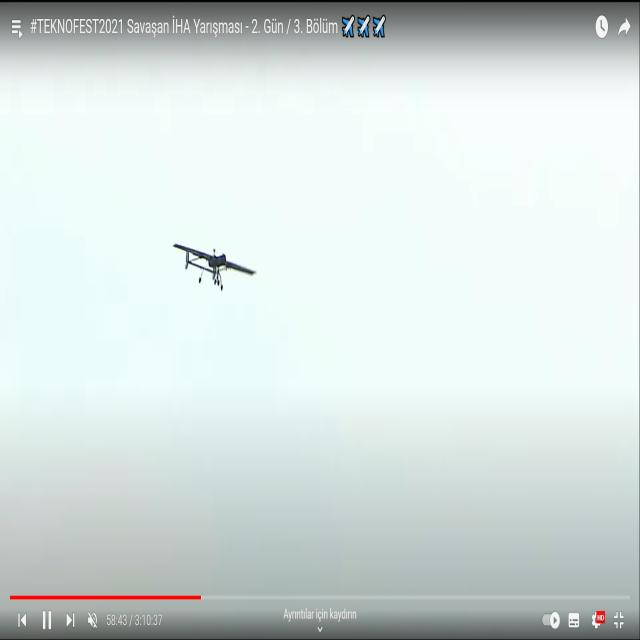iha: (204, 237, 223, 285)
